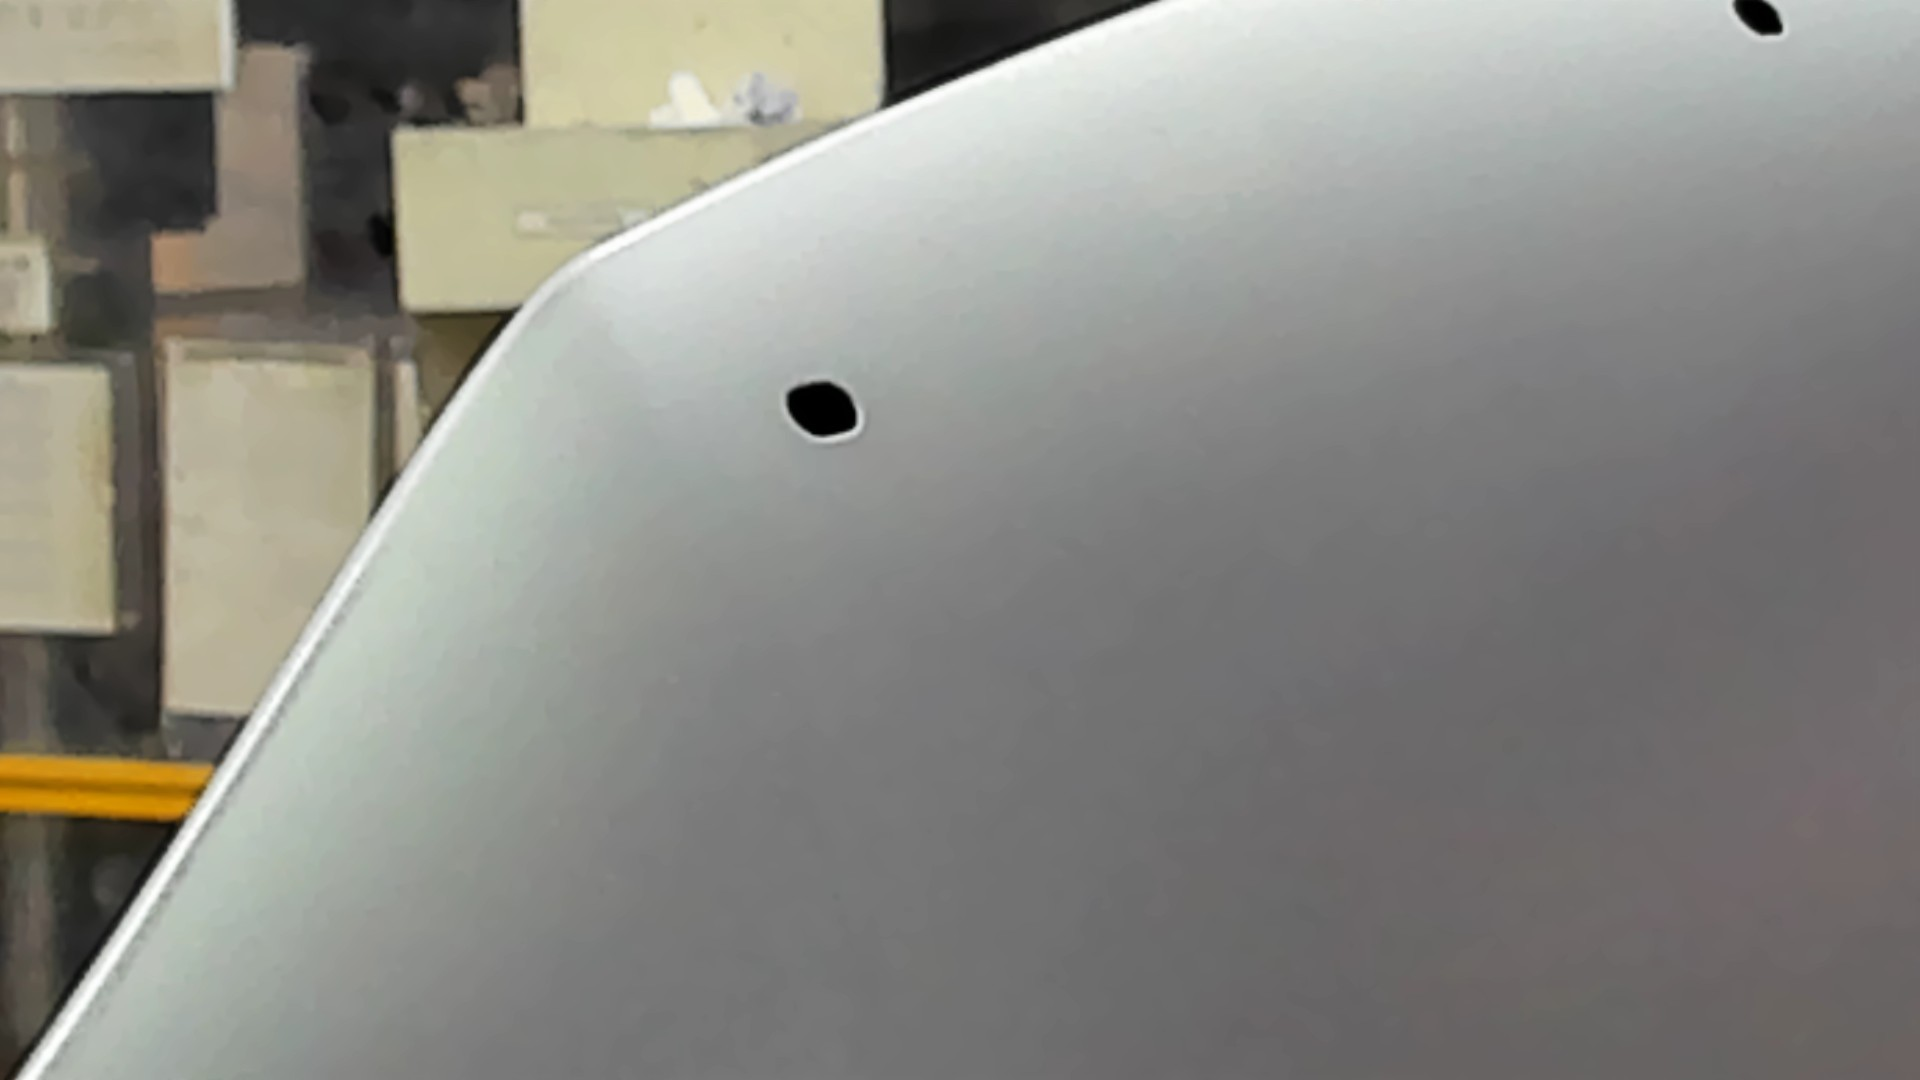amorfo: (781, 372, 868, 442), (1729, 1, 1792, 41)
